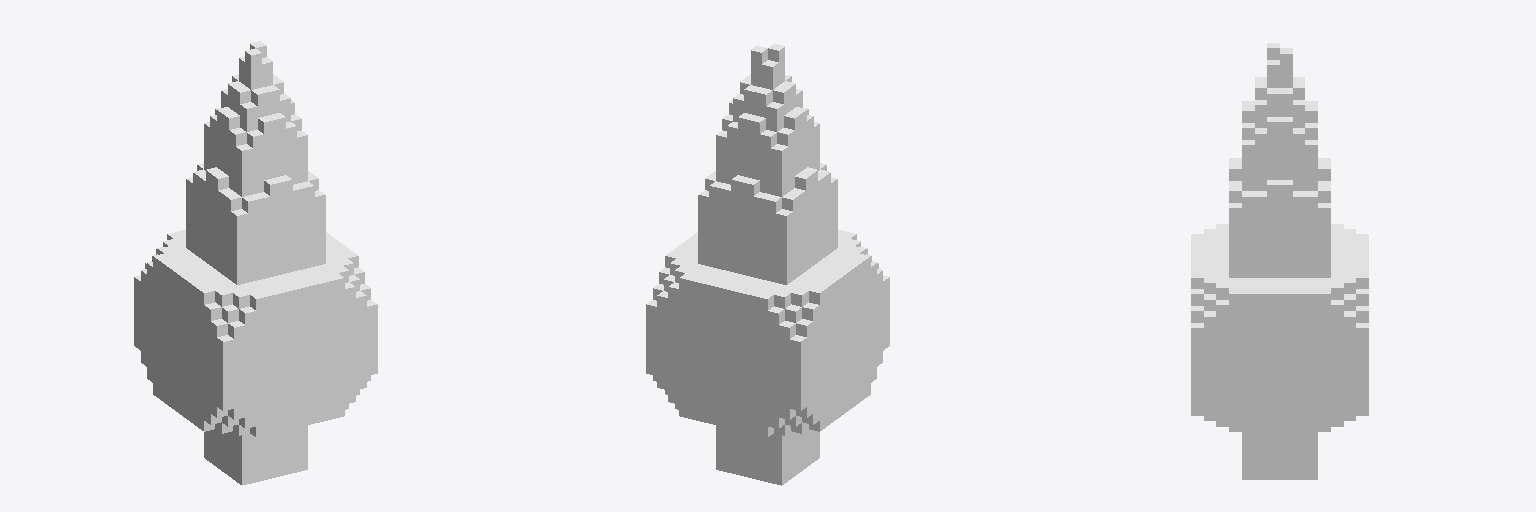
Rendered from drzewo_iglaste.obj.
The picture shows the model from 3 angles: view 1: azimuth 30°, elevation 25°; view 2: azimuth 150°, elevation 25°; view 3: azimuth 270°, elevation 25°; orthographic projection.
Bounding box in the file's own units: 14 × 36 × 14.